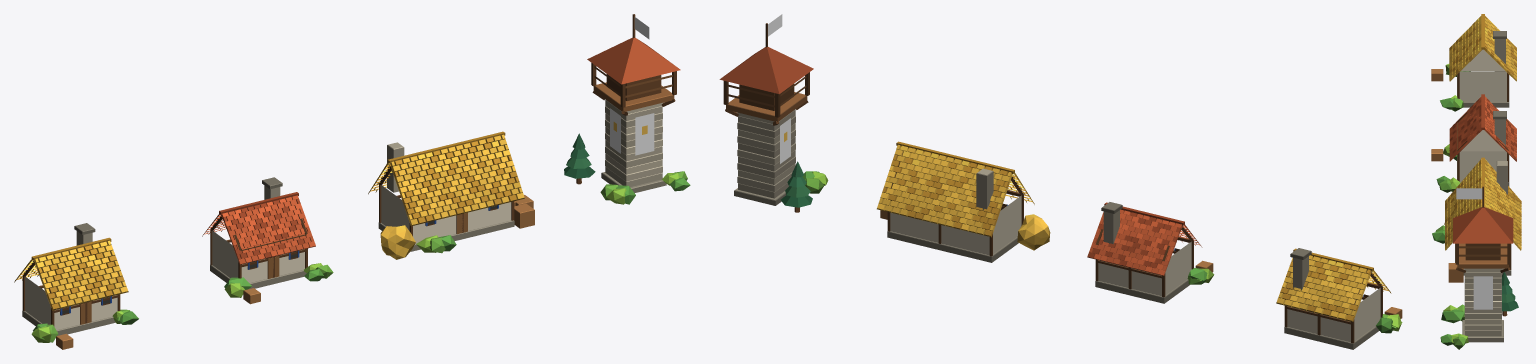
Rendered from buildings.glb.
3 renders of one model, left to right at view 1: azimuth 30°, elevation 25°; view 2: azimuth 150°, elevation 25°; view 3: azimuth 270°, elevation 25°, orthographic. The views are drawn at different scales.
Parts seen in each view (by area): view 1: farm_building, watchtower_s, house_tile, house_thatch; view 2: farm_building, watchtower_s, house_thatch, house_tile; view 3: watchtower_s, house_thatch, house_tile, farm_building.
Boxes of the visible parts, <box> form: farm_building: <box>368,131,534,259</box>; watchtower_s: <box>564,14,690,204</box>; house_tile: <box>202,177,333,304</box>; house_thatch: <box>14,223,138,349</box>; farm_building: <box>877,141,1050,262</box>; watchtower_s: <box>719,14,828,212</box>; house_thatch: <box>1276,248,1402,349</box>; house_tile: <box>1087,202,1214,303</box>; watchtower_s: <box>1440,186,1518,349</box>; house_thatch: <box>1431,14,1516,111</box>; house_tile: <box>1431,94,1516,192</box>; farm_building: <box>1432,157,1521,282</box>.
Bounding box in the file's own units: 15.35 × 3.9 × 2.09.
